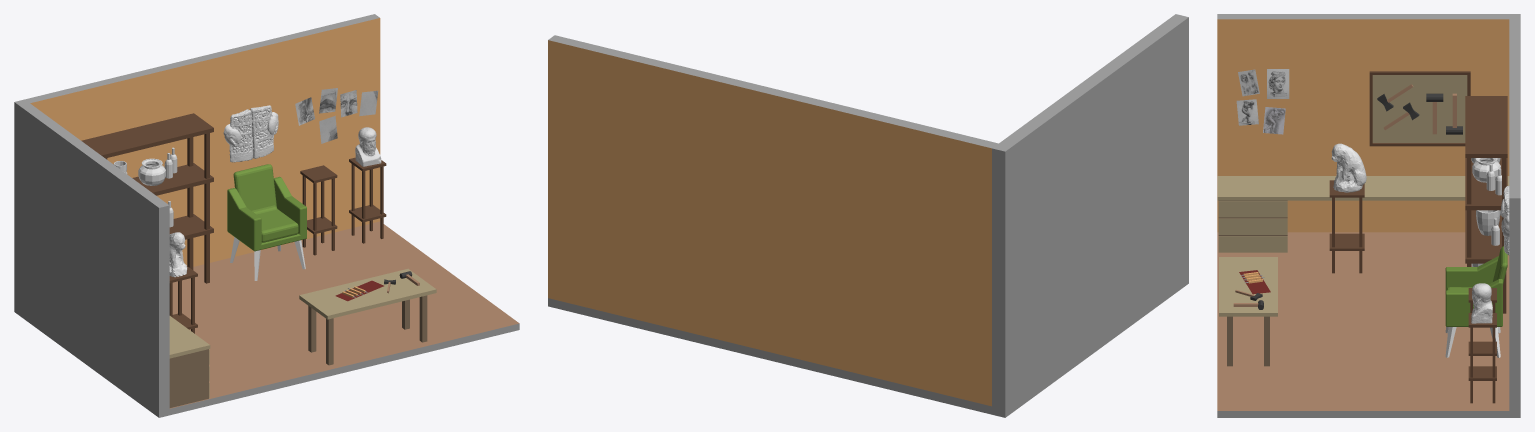
The model's file is Room_Old.fbx.
3 views of the same model, side by side, from view 1: azimuth 30°, elevation 25°; view 2: azimuth 150°, elevation 25°; view 3: azimuth 270°, elevation 25° (orthographic). The views are drawn at different scales.
Parts seen in each view (by area): view 1: Room.001, Table.001, Shelf.003, Plane.013, Cube.047, relief_au_taureau_lower_Rez.001, Plane.014, Cube.008, Cube.043, Cube.034, Cube.042, Cube.040 (+8 smaller); view 2: Room.001; view 3: Room.001, Board.001, Cube.031, Table.001, Shelf.003, Plane.013, Lion.001, Cube.027, Cube.014, Cube.030, Cube.041, Cube.042 (+22 smaller).
Part boxes in pixels (left/top/right/bottom): Room.001: left=14, top=14, right=519, bottom=417; Table.001: left=299, top=268, right=436, bottom=319; Shelf.003: left=81, top=113, right=213, bottom=158; Plane.013: left=227, top=176, right=306, bottom=251; Cube.047: left=233, top=164, right=298, bottom=242; relief_au_taureau_lower_Rez.001: left=223, top=105, right=278, bottom=162; Plane.014: left=295, top=88, right=378, bottom=143; Cube.008: left=169, top=349, right=208, bottom=407; Cube.043: left=105, top=133, right=209, bottom=283; Cube.034: left=308, top=295, right=427, bottom=365; Cube.042: left=132, top=163, right=213, bottom=195; Cube.040: left=351, top=164, right=383, bottom=243; Room.001: left=548, top=14, right=1188, bottom=417; Room.001: left=1217, top=14, right=1520, bottom=417; Board.001: left=1369, top=71, right=1470, bottom=146; Cube.031: left=1217, top=176, right=1509, bottom=200; Table.001: left=1219, top=257, right=1277, bottom=316; Shelf.003: left=1465, top=96, right=1507, bottom=157; Plane.013: left=1445, top=256, right=1502, bottom=326; Lion.001: left=1331, top=143, right=1366, bottom=192; Cube.027: left=1218, top=236, right=1287, bottom=252; Cube.014: left=1218, top=201, right=1287, bottom=217; Cube.030: left=1218, top=218, right=1287, bottom=234; Cube.041: left=1465, top=210, right=1501, bottom=263; Cube.042: left=1465, top=158, right=1507, bottom=210.
Size of the model in its own units: 503 by 280 by 350.
Materials: 16 (5 with a texture image).
